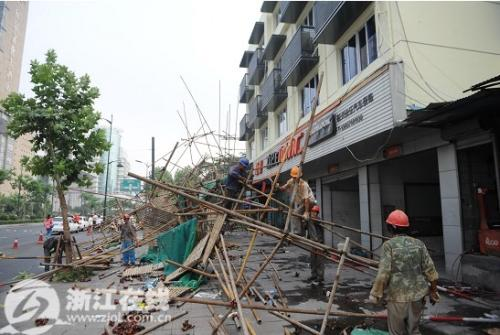hard-hat: (385, 208, 410, 226), (290, 166, 302, 178), (239, 157, 249, 167), (310, 204, 320, 212), (123, 214, 130, 219)
person: (369, 208, 440, 334), (277, 166, 316, 239), (222, 158, 250, 212), (307, 204, 325, 283), (119, 214, 138, 266)
